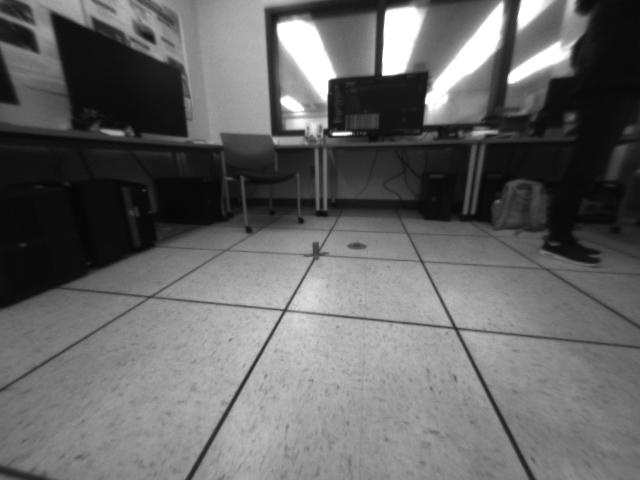X: (302, 241, 331, 261)
